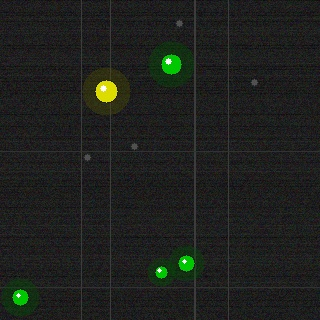green_normal: (159, 52, 183, 76), (176, 253, 196, 273), (10, 287, 30, 307), (153, 264, 169, 280)
yellow_warning: (93, 78, 119, 104)
